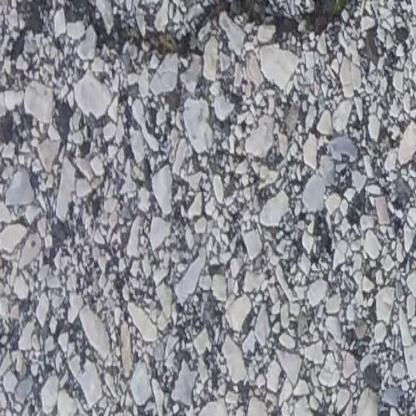Cracks: (7, 0, 416, 67)
